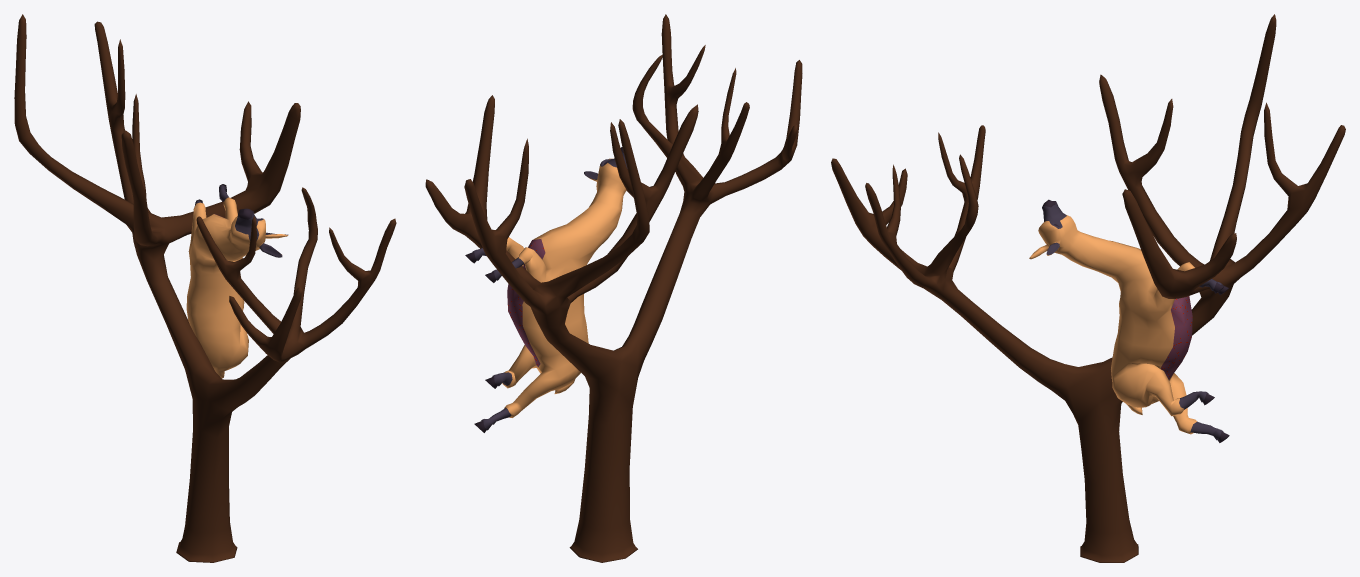
The model's file is Tree-Alpaca-no3.gltf.
3 renders of one model, left to right at view 1: azimuth 30°, elevation 25°; view 2: azimuth 150°, elevation 25°; view 3: azimuth 270°, elevation 25°, orthographic. The views are drawn at different scales.
Visible parts, largest first — view 1: Tree-Alpaca-no3; view 2: Tree-Alpaca-no3; view 3: Tree-Alpaca-no3.
Part boxes in pixels (x1,y1,x2,y2): Tree-Alpaca-no3: (14,14,396,562); Tree-Alpaca-no3: (425,14,802,562); Tree-Alpaca-no3: (831,14,1345,562).
Size of the model in its own units: 1.04 by 2.22 by 2.12.
1 material, 1 textured.
